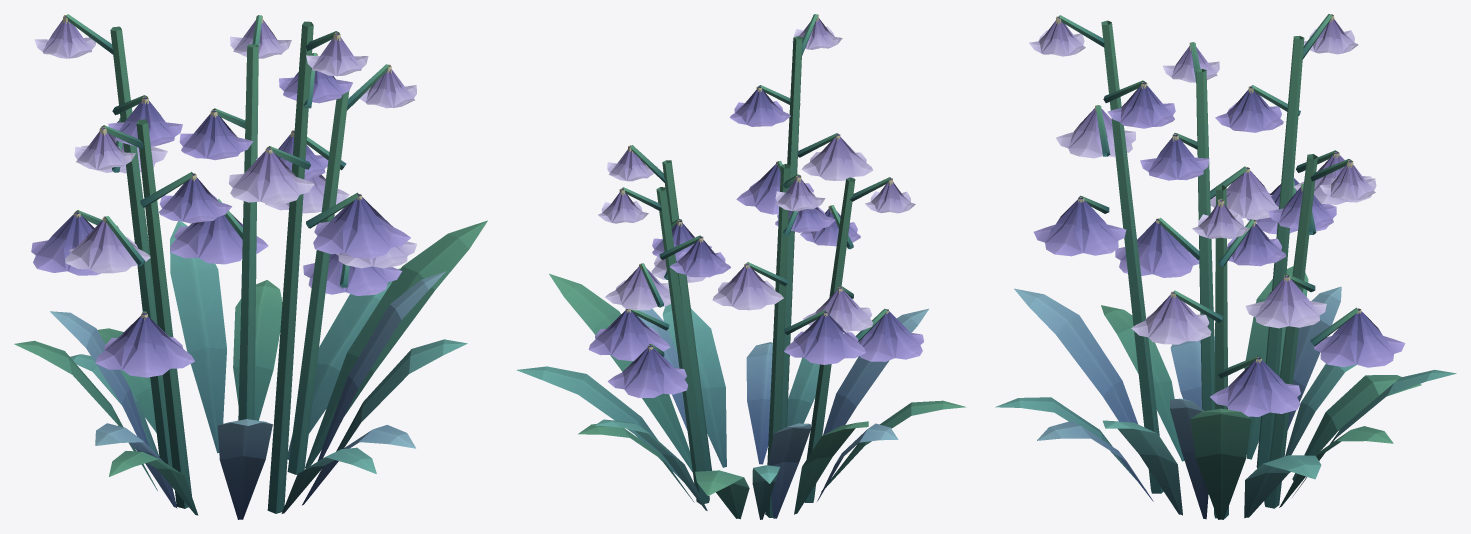
The model's file is SM_TwilightBells.fbx.
3 renders of one model, left to right at view 1: azimuth 30°, elevation 25°; view 2: azimuth 150°, elevation 25°; view 3: azimuth 270°, elevation 25°, orthographic. The views are drawn at different scales.
Visible parts, largest first — view 1: SM_TwilightBells; view 2: SM_TwilightBells; view 3: SM_TwilightBells.
Boxes of the visible parts, x1,y1,x2,y2 form: SM_TwilightBells: (14,14,487,519); SM_TwilightBells: (516,14,966,519); SM_TwilightBells: (995,14,1456,519).
Bounding box in the file's own units: 70.33 × 68.19 × 78.24.
Materials: 1 (1 with a texture image).
